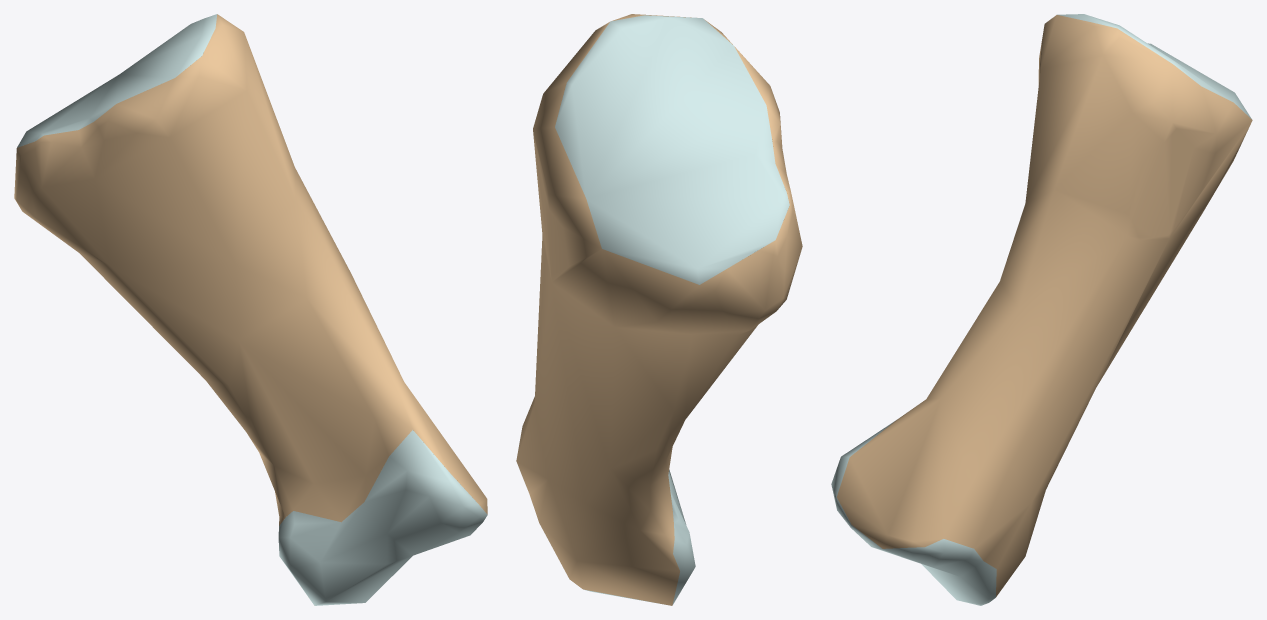
Rendered from Phalanx_proximal_1st_finger_left.glb.
3 renders of one model, left to right at view 1: azimuth 30°, elevation 25°; view 2: azimuth 150°, elevation 25°; view 3: azimuth 270°, elevation 25°, orthographic. The views are drawn at different scales.
Parts seen in each view (by area): view 1: Proximal_phalanx_of_1st_finger.l_Generated_Mesh_From_X3D.711; view 2: Proximal_phalanx_of_1st_finger.l_Generated_Mesh_From_X3D.711; view 3: Proximal_phalanx_of_1st_finger.l_Generated_Mesh_From_X3D.711.
Part boxes in pixels (<box>): Proximal_phalanx_of_1st_finger.l_Generated_Mesh_From_X3D.711: <box>14,14,487,605</box>; Proximal_phalanx_of_1st_finger.l_Generated_Mesh_From_X3D.711: <box>516,14,802,605</box>; Proximal_phalanx_of_1st_finger.l_Generated_Mesh_From_X3D.711: <box>831,14,1252,605</box>.
Size of the model in its own units: 0.0209 by 0.0325 by 0.023.
